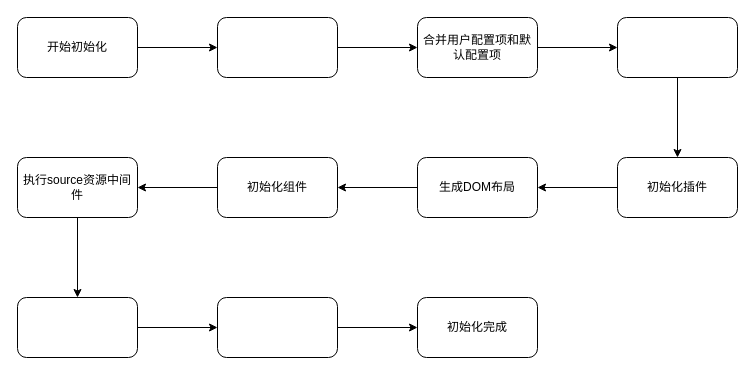
Image size: 755x375. Some labels were removed from this diagram. Here are the shapes that lost their labels. From the top down, the centre of each, then its label:
the point at 277,47: 执行beforeSetup钩子函数
the point at 677,47: 初始化国际化语言包
the point at 77,327: 初始化视频执行器(tech)
the point at 277,327: 执行afterSetup钩子函数
